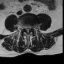CCS_normal: (26, 27, 28, 35)
LFS_severe_stenosis: (30, 26, 32, 32)
LLS_stenosis: (28, 27, 30, 32)
RFS_severe_stenosis: (23, 26, 25, 31)
RLS_severe_stenosis: (25, 27, 27, 32)
